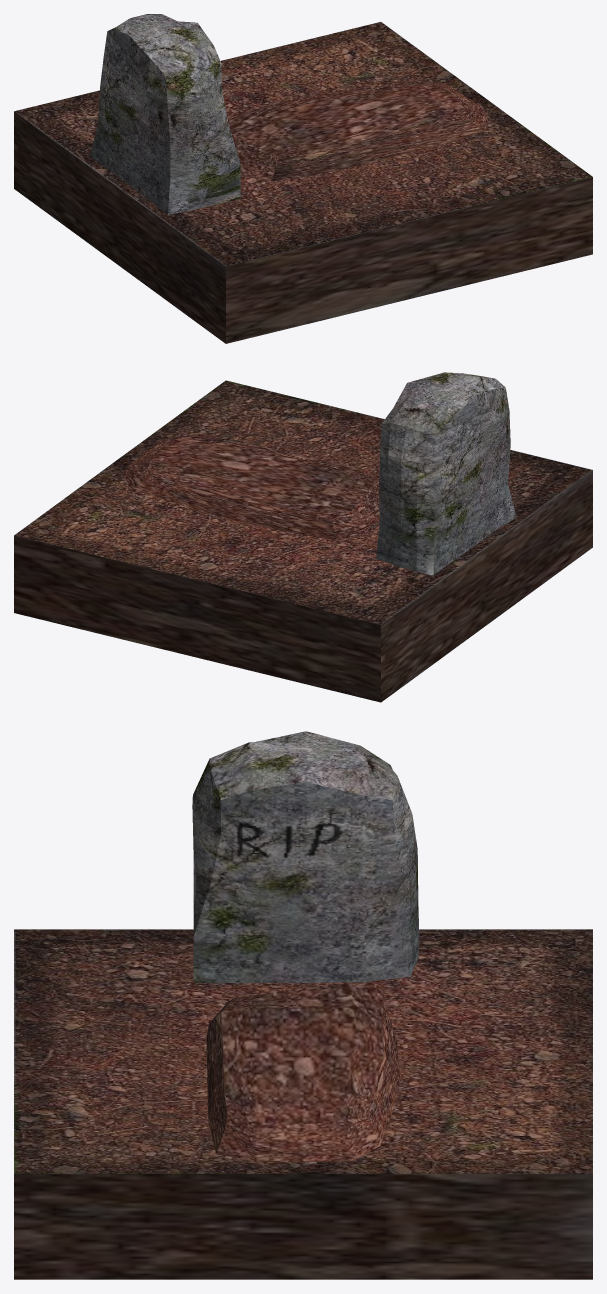
File: Grave.glb
The picture shows the model from 3 angles, top to bottom: view 1: azimuth 30°, elevation 25°; view 2: azimuth 150°, elevation 25°; view 3: azimuth 270°, elevation 25°; orthographic projection. The views are drawn at different scales.
Visible parts, largest first — view 1: Grave; view 2: Grave; view 3: Grave.
Boxes of the visible parts, x1,y1,x2,y2 form: Grave: (14,14,592,343); Grave: (14,372,592,702); Grave: (14,731,592,1279).
Size of the model in its own units: 2 by 1.18 by 2.
Materials: 1 (1 with a texture image).
